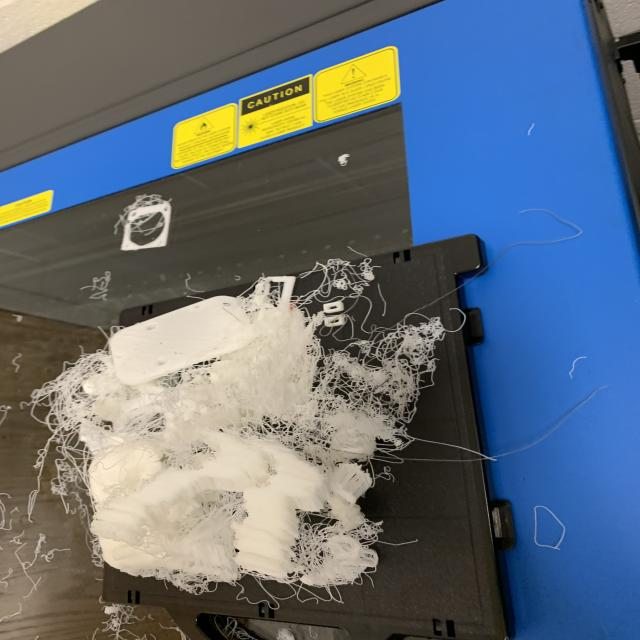spaghetti: (14, 250, 471, 610)
